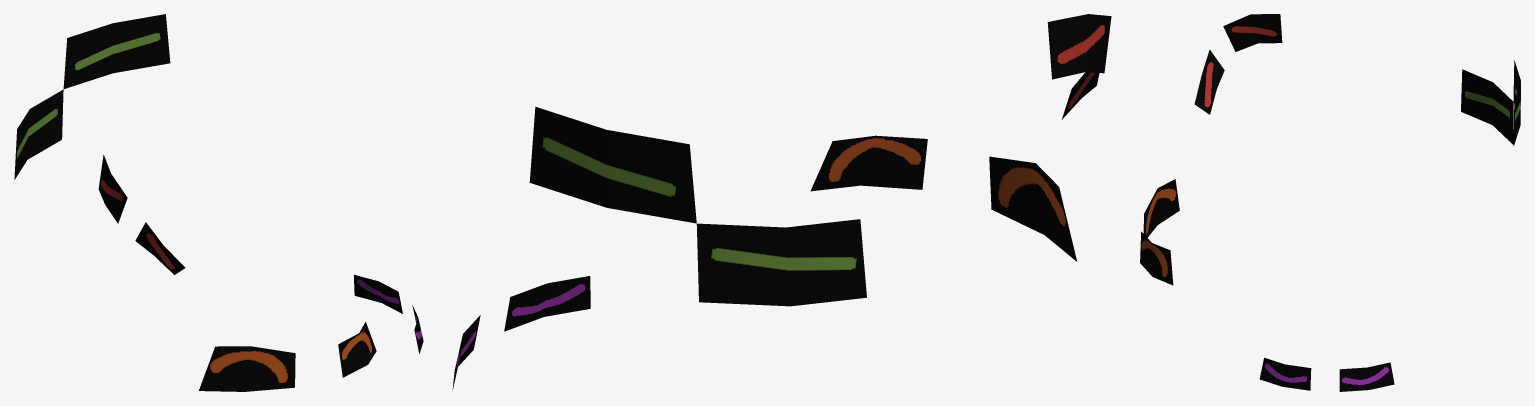
The model's file is NoxiousSlimeEyesMesh.obj.
The picture shows the model from 3 angles, left to right: view 1: azimuth 30°, elevation 25°; view 2: azimuth 150°, elevation 25°; view 3: azimuth 270°, elevation 25°; orthographic projection. The views are drawn at different scales.
Visible parts, largest first — view 1: NoxiousSlimeEyesMesh_Noxious_Slimes_Eyes; view 2: NoxiousSlimeEyesMesh_Noxious_Slimes_Eyes; view 3: NoxiousSlimeEyesMesh_Noxious_Slimes_Eyes.
Boxes of the visible parts, x1=… form: NoxiousSlimeEyesMesh_Noxious_Slimes_Eyes: x1=14, y1=14, x2=423, y2=391; NoxiousSlimeEyesMesh_Noxious_Slimes_Eyes: x1=452, y1=14, x2=1111, y2=389; NoxiousSlimeEyesMesh_Noxious_Slimes_Eyes: x1=1140, y1=14, x2=1520, y2=391.
Size of the model in its own units: 1.35 by 0.9981 by 1.47.
Materials: 1 (1 with a texture image).
